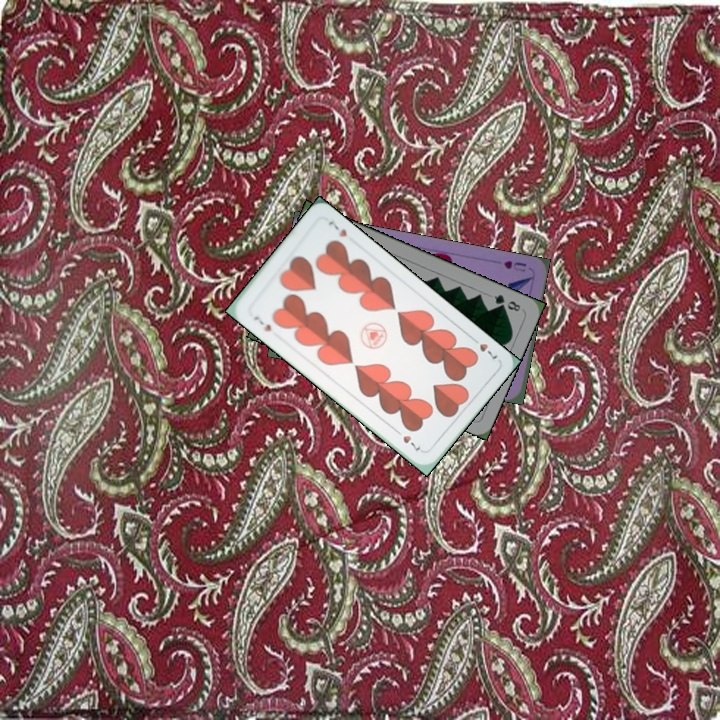G8: (490, 290, 523, 314)
H7: (467, 333, 500, 364), (250, 312, 274, 334)
HU: (500, 256, 529, 275)
